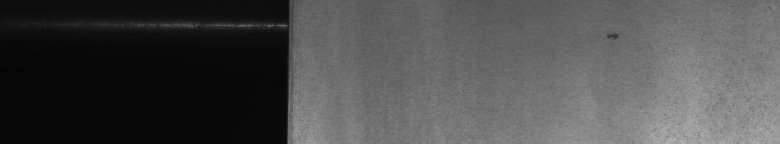fi: (604, 24, 620, 44)
